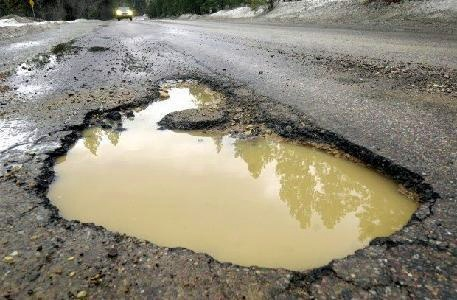pothole: (32, 71, 440, 276)
